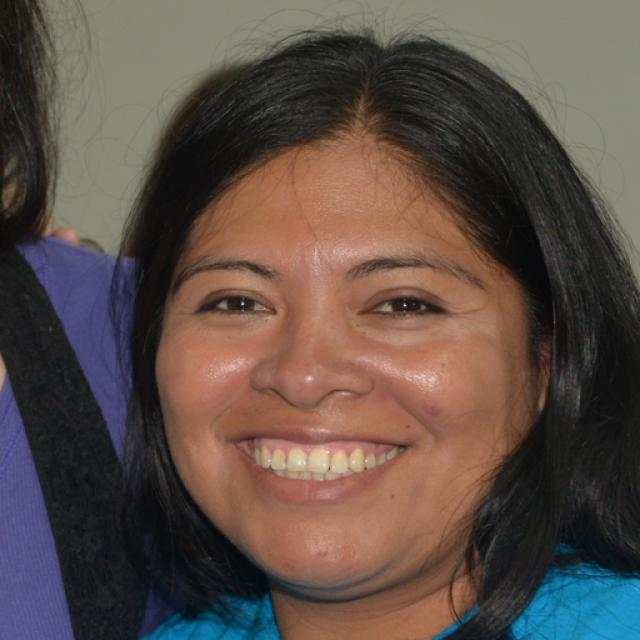Acne: (420, 397, 446, 418), (312, 547, 333, 562)
